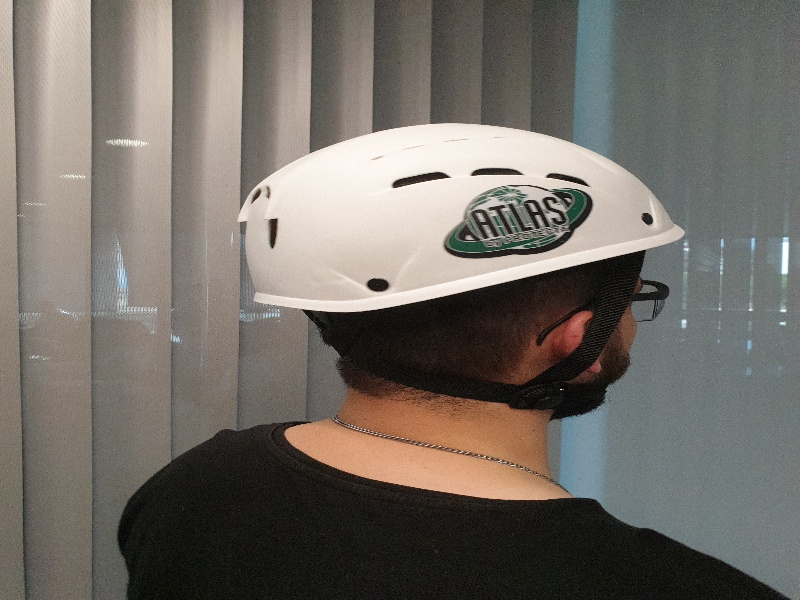Baret: (242, 122, 686, 293)
